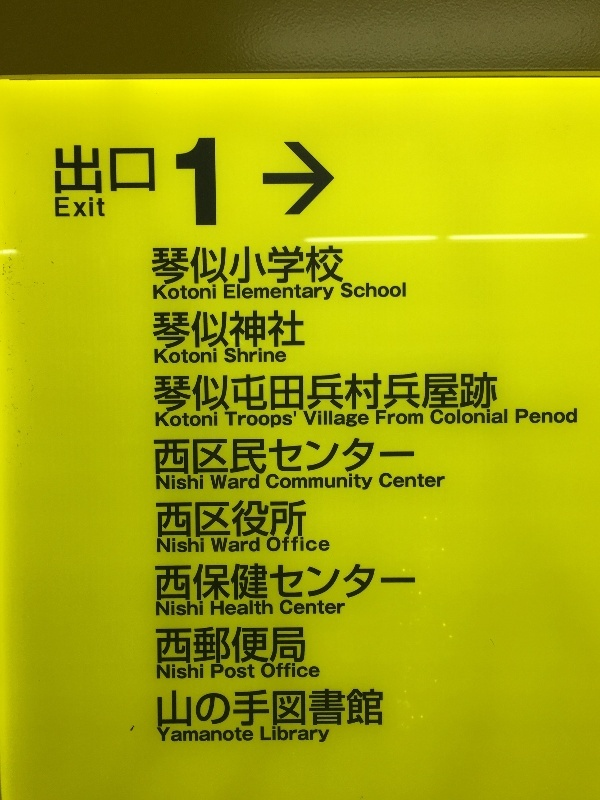text: (177, 138, 192, 226), (193, 138, 208, 226), (65, 146, 80, 195), (81, 146, 96, 195), (97, 146, 112, 195), (113, 146, 128, 195), (129, 146, 144, 195), (209, 138, 217, 226), (161, 687, 176, 730), (177, 687, 192, 730), (193, 687, 208, 730), (209, 687, 224, 730), (225, 687, 240, 730), (241, 687, 256, 730), (257, 687, 272, 730), (273, 687, 288, 730), (289, 687, 304, 730), (305, 687, 320, 730), (321, 687, 336, 730), (337, 687, 352, 730), (353, 687, 368, 730), (369, 687, 384, 730), (161, 372, 176, 414), (177, 372, 192, 414), (193, 372, 208, 414), (209, 372, 224, 414), (225, 372, 240, 414), (241, 372, 256, 414), (257, 372, 272, 414), (273, 372, 288, 414), (289, 372, 304, 414), (305, 372, 320, 414), (321, 372, 336, 414), (337, 372, 352, 414), (353, 372, 368, 414), (369, 372, 384, 414), (385, 372, 400, 414), (401, 372, 416, 414), (417, 372, 432, 414), (433, 372, 448, 414), (449, 372, 464, 414), (465, 372, 480, 414), (481, 372, 496, 414), (161, 245, 176, 286), (177, 245, 192, 286), (193, 245, 208, 286), (209, 245, 224, 286), (225, 245, 240, 286), (241, 245, 256, 286), (257, 245, 272, 286), (273, 245, 288, 286), (289, 245, 304, 286), (305, 245, 320, 286), (321, 245, 336, 286), (161, 499, 176, 540), (177, 499, 192, 540), (193, 499, 208, 540), (209, 499, 224, 540), (225, 499, 240, 540), (241, 499, 256, 540), (257, 499, 272, 540), (273, 499, 288, 540), (289, 499, 304, 540), (161, 309, 176, 349), (177, 309, 192, 349), (193, 309, 208, 349), (209, 309, 224, 349), (225, 309, 240, 349), (241, 309, 256, 349), (257, 309, 272, 349), (273, 309, 288, 349), (289, 309, 304, 349), (161, 627, 176, 666), (177, 627, 192, 666), (193, 627, 208, 666), (209, 627, 224, 666), (225, 627, 240, 666), (241, 627, 256, 666), (257, 627, 272, 666), (273, 627, 288, 666), (289, 627, 304, 666), (161, 565, 176, 602), (177, 565, 192, 602), (193, 565, 208, 602), (209, 565, 224, 602), (225, 565, 240, 602), (241, 565, 256, 602), (257, 565, 272, 602), (273, 565, 288, 602), (289, 565, 304, 602), (305, 565, 320, 602), (321, 565, 336, 602), (337, 565, 352, 602), (353, 565, 368, 602), (369, 565, 384, 602), (385, 565, 400, 602), (401, 565, 416, 602), (161, 439, 176, 475), (177, 439, 192, 475), (193, 439, 208, 475), (209, 439, 224, 475), (225, 439, 240, 475), (241, 439, 256, 475), (257, 439, 272, 475), (273, 439, 288, 475), (289, 439, 304, 475), (305, 439, 320, 475), (321, 439, 336, 475), (337, 439, 352, 475), (353, 439, 368, 475), (369, 439, 384, 475), (385, 439, 400, 475), (401, 439, 416, 475), (145, 146, 156, 195), (54, 146, 64, 195), (65, 197, 80, 220), (81, 197, 96, 220), (225, 283, 240, 304), (241, 283, 256, 304), (257, 283, 272, 304), (273, 283, 288, 304), (289, 283, 304, 304), (305, 283, 320, 304), (153, 245, 160, 286), (337, 245, 344, 286), (153, 309, 160, 349), (321, 283, 334, 304), (225, 411, 240, 429), (241, 411, 256, 429), (257, 411, 272, 429), (273, 411, 288, 429), (561, 408, 577, 424), (353, 411, 369, 427), (433, 409, 448, 426), (449, 409, 464, 426), (465, 409, 480, 426), (481, 409, 496, 426), (273, 473, 288, 490), (289, 473, 304, 490), (305, 473, 320, 490), (321, 473, 336, 490), (337, 473, 352, 490), (353, 473, 368, 490), (273, 535, 288, 552), (289, 535, 304, 552), (305, 535, 320, 552), (273, 726, 288, 743), (289, 726, 304, 743), (305, 726, 320, 743), (154, 372, 160, 414), (161, 284, 176, 300), (177, 284, 192, 300), (193, 284, 208, 300), (353, 282, 368, 298), (369, 282, 384, 298), (385, 282, 400, 298), (161, 348, 176, 364), (177, 348, 192, 364), (193, 348, 208, 364), (529, 408, 544, 424), (545, 408, 560, 424), (161, 601, 176, 617), (177, 601, 192, 617), (257, 601, 273, 616), (161, 664, 176, 680), (177, 664, 192, 680), (305, 411, 320, 427), (321, 411, 336, 427), (337, 411, 352, 427), (225, 348, 240, 363), (241, 348, 256, 363), (257, 348, 272, 363), (161, 412, 176, 427), (177, 412, 192, 427), (193, 412, 208, 427), (385, 410, 400, 425), (401, 410, 416, 425), (161, 475, 176, 490), (177, 475, 192, 490), (161, 538, 176, 553), (177, 538, 192, 553), (225, 538, 240, 553), (241, 538, 256, 553), (225, 601, 240, 616), (241, 601, 256, 616), (289, 600, 304, 615), (305, 600, 320, 615), (321, 600, 336, 615), (273, 663, 288, 678), (289, 663, 304, 678), (305, 663, 320, 678), (385, 473, 400, 488), (401, 473, 416, 488), (417, 473, 432, 488), (154, 439, 160, 475), (225, 475, 240, 489), (241, 475, 256, 489), (161, 728, 176, 742), (177, 728, 192, 742), (193, 728, 208, 742), (209, 728, 224, 742), (225, 728, 240, 742), (55, 197, 64, 220), (97, 197, 106, 220), (260, 726, 272, 743), (273, 348, 286, 363), (211, 538, 224, 553), (211, 601, 224, 616), (225, 665, 240, 678), (155, 627, 160, 666), (516, 408, 528, 424), (497, 409, 508, 426), (155, 565, 160, 602), (211, 475, 224, 489), (241, 665, 255, 678), (241, 728, 254, 742), (433, 473, 445, 488), (341, 282, 352, 298), (211, 665, 224, 678), (193, 538, 204, 553), (261, 663, 272, 678), (156, 499, 160, 540), (193, 601, 203, 617), (193, 664, 203, 680), (321, 535, 330, 552), (321, 726, 330, 743), (193, 475, 203, 490), (289, 411, 297, 429), (209, 412, 218, 427), (157, 687, 160, 730), (209, 348, 217, 364), (376, 410, 384, 425), (280, 600, 288, 615), (337, 600, 345, 615), (209, 284, 216, 300), (266, 473, 272, 490), (154, 284, 160, 300), (417, 410, 423, 425), (267, 535, 272, 552), (497, 372, 499, 414), (305, 499, 307, 540), (401, 282, 406, 298), (155, 348, 160, 364), (369, 473, 373, 490), (156, 601, 160, 617), (156, 412, 160, 427), (380, 473, 384, 488), (157, 664, 160, 680), (157, 475, 160, 490), (157, 538, 160, 553), (257, 538, 260, 553), (157, 728, 160, 742), (305, 309, 306, 349), (305, 627, 306, 666), (430, 409, 432, 426), (257, 475, 259, 489)
